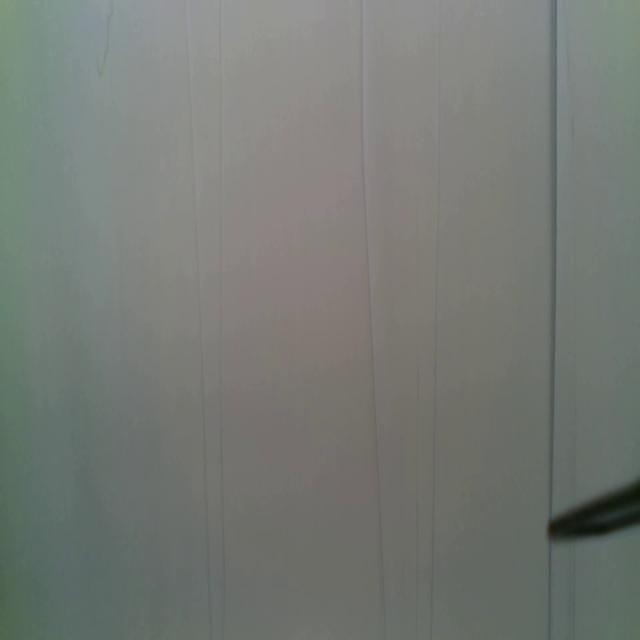crease: (357, 0, 388, 637), (183, 0, 213, 633), (427, 0, 442, 638), (215, 0, 229, 636), (548, 0, 559, 512), (412, 352, 422, 640), (572, 261, 582, 502), (568, 542, 578, 640), (546, 544, 554, 639)
